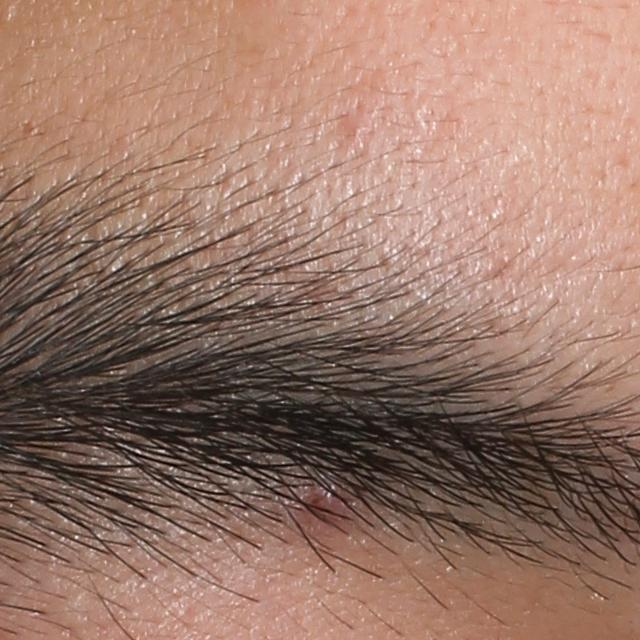papule: (303, 481, 351, 531)
